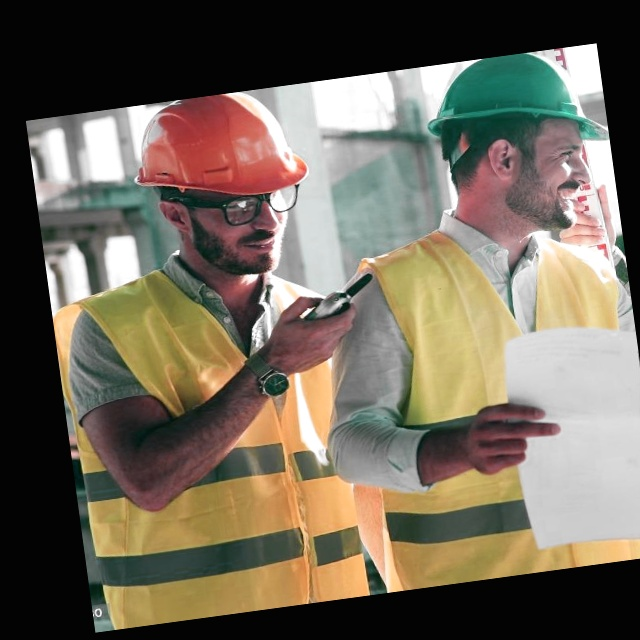Con_Chaleco: (51, 249, 375, 632), (352, 213, 640, 591)
